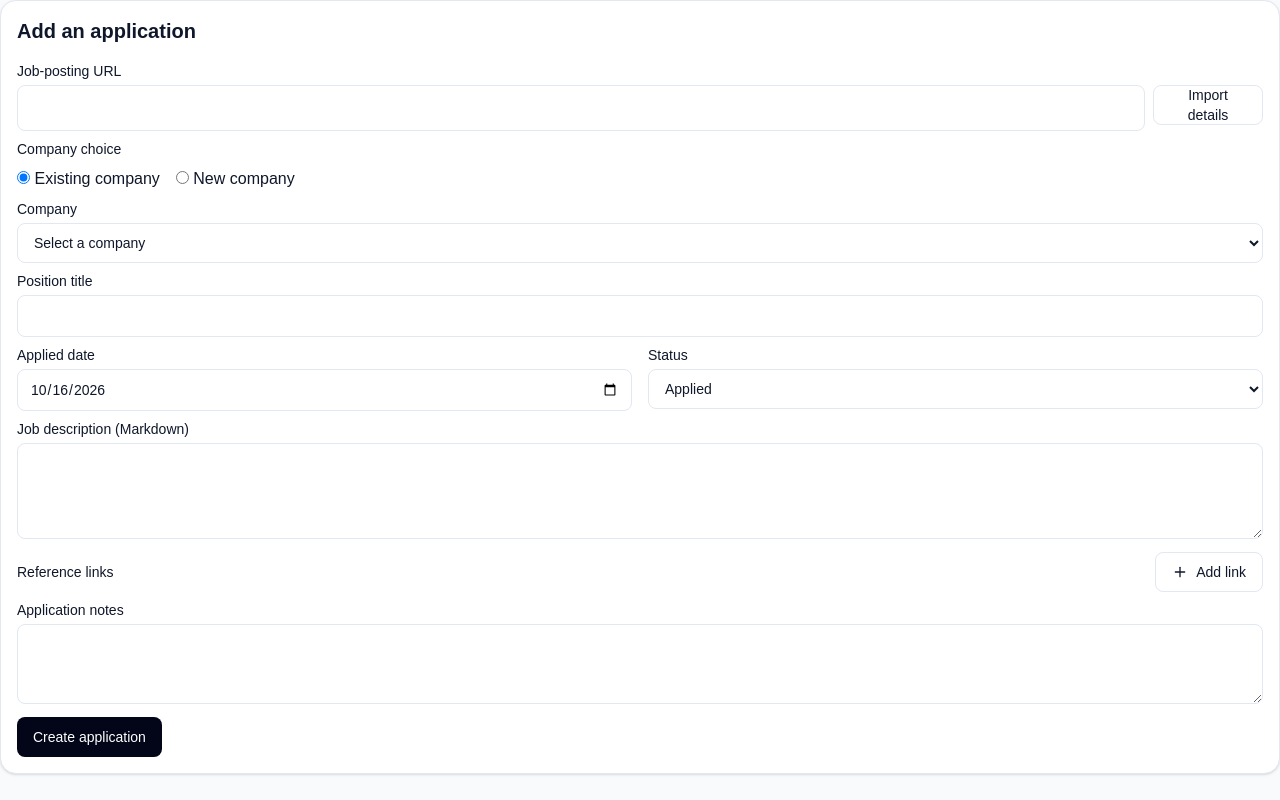
Test: CreateApplicationForm › prevents duplicate clicks while importing and reports server failures
Type "https://example.com/job" into the field labelled "Job-posting URL" at (581, 108), box [17,85,1145,131]
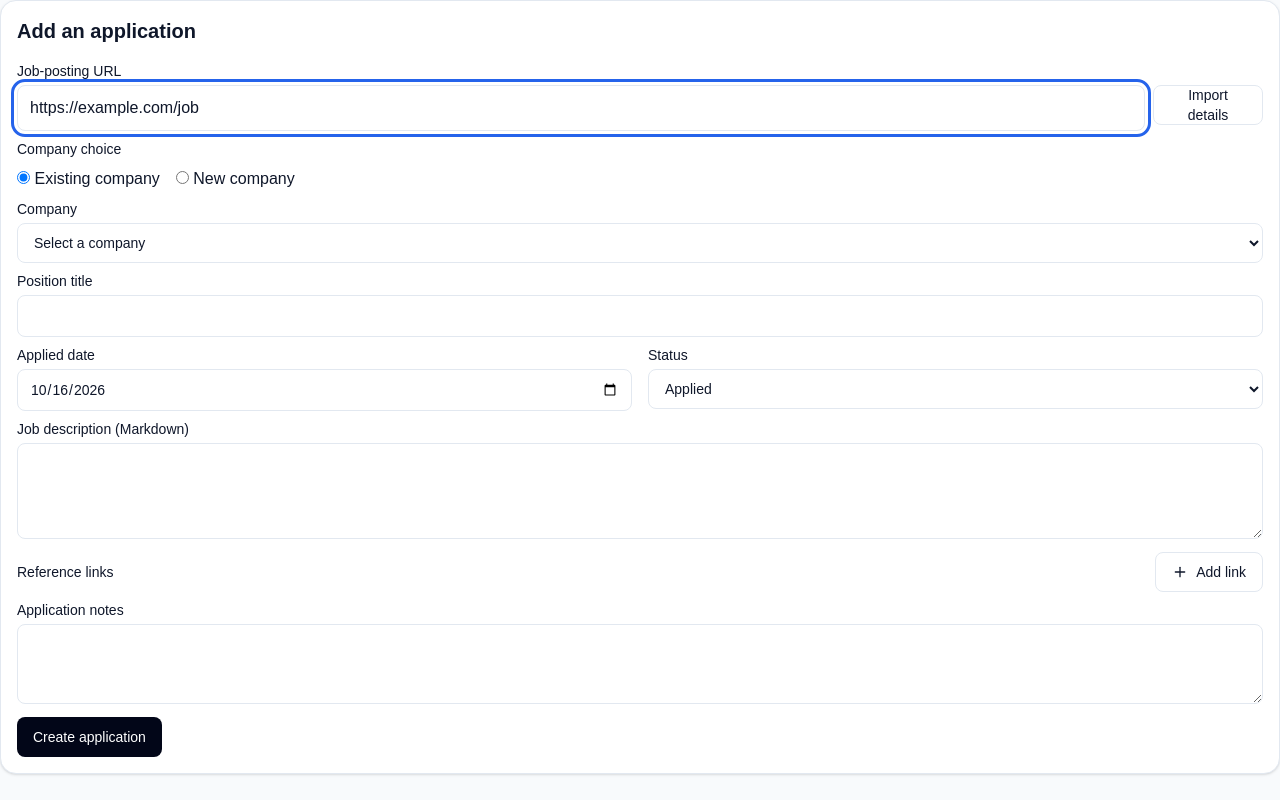
Click the button "Import details" at (1208, 105), box [1153,85,1263,125]
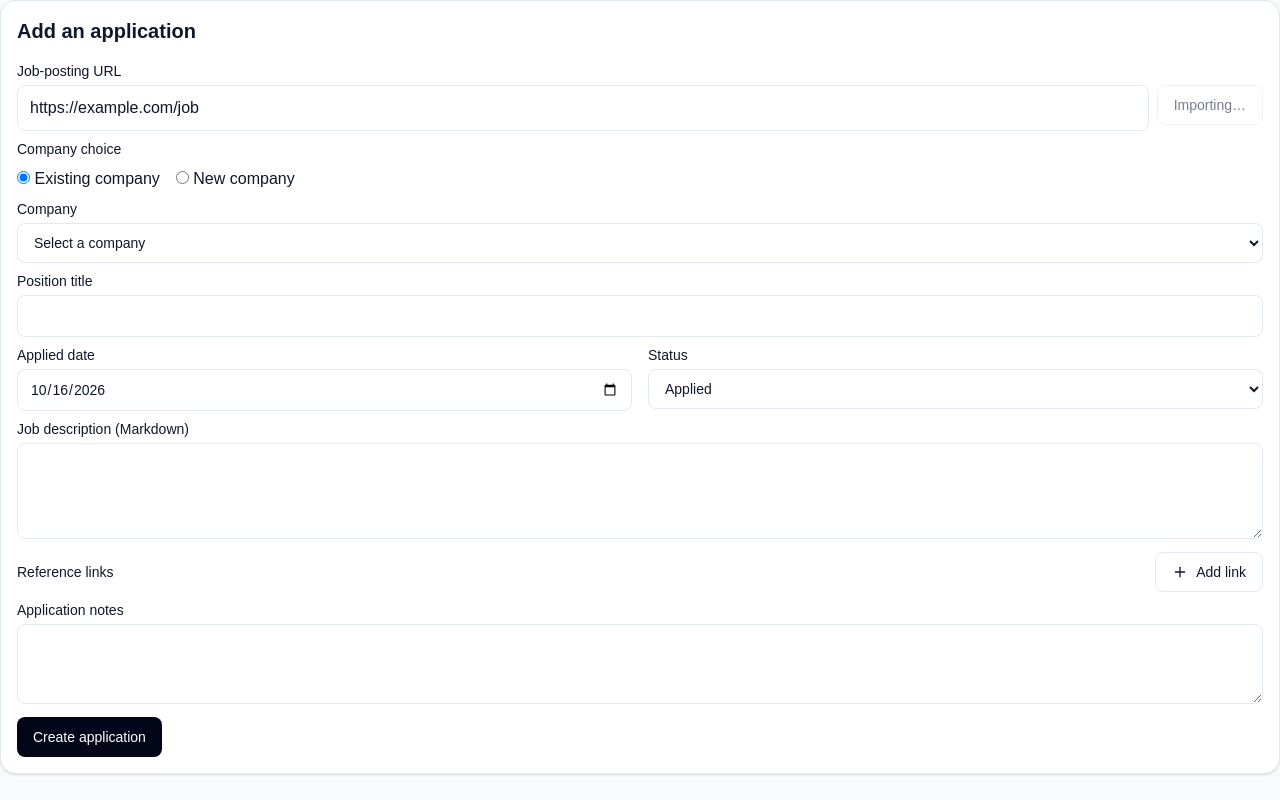
Now the button "Importing…" is disabled
Click the button "Importing…" at (1210, 105), box [1157,85,1263,125]
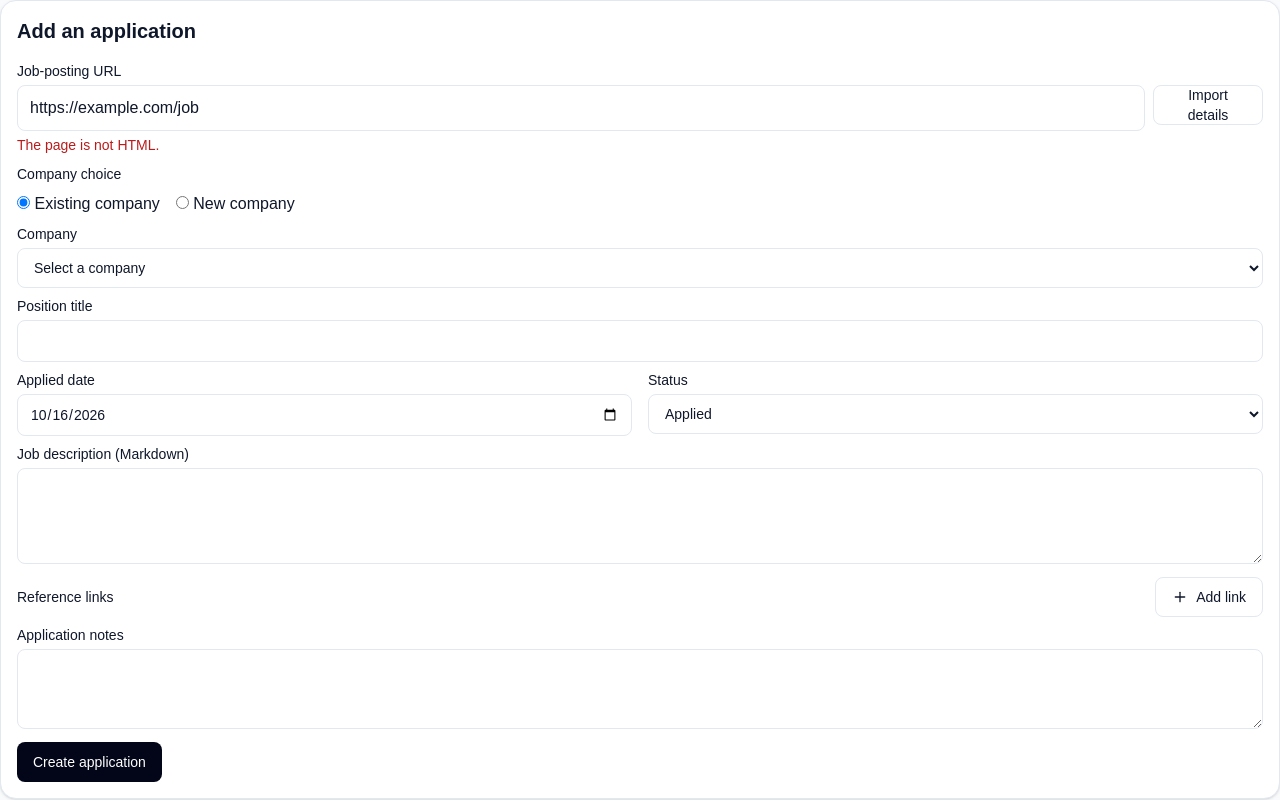
Now the message reads "The page is not HTML.", box [17,137,159,153]
